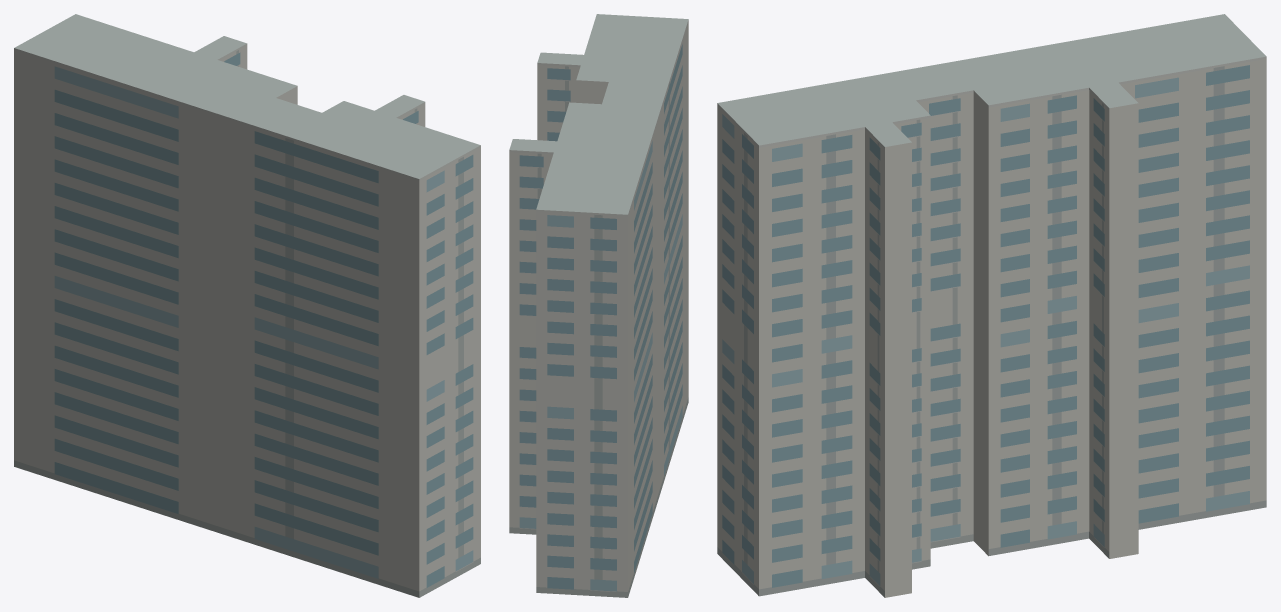
The model's file is residential-454598b3-1a9e-4de0-9219-9c0f74fae3ba.glb.
3 renders of one model, left to right at view 1: azimuth 30°, elevation 25°; view 2: azimuth 150°, elevation 25°; view 3: azimuth 270°, elevation 25°, orthographic. The views are drawn at different scales.
Parts seen in each view (by area): view 1: residential-454598b3-1a9e-4de0-9219-9c0f74fae3ba.tmp; view 2: residential-454598b3-1a9e-4de0-9219-9c0f74fae3ba.tmp; view 3: residential-454598b3-1a9e-4de0-9219-9c0f74fae3ba.tmp.
Boxes of the visible parts, bbox=[...] form: residential-454598b3-1a9e-4de0-9219-9c0f74fae3ba.tmp: bbox=[14, 14, 480, 597]; residential-454598b3-1a9e-4de0-9219-9c0f74fae3ba.tmp: bbox=[509, 14, 688, 597]; residential-454598b3-1a9e-4de0-9219-9c0f74fae3ba.tmp: bbox=[717, 14, 1266, 597].
Bounding box in the file's own units: 31.67 × 50 × 55.21.
